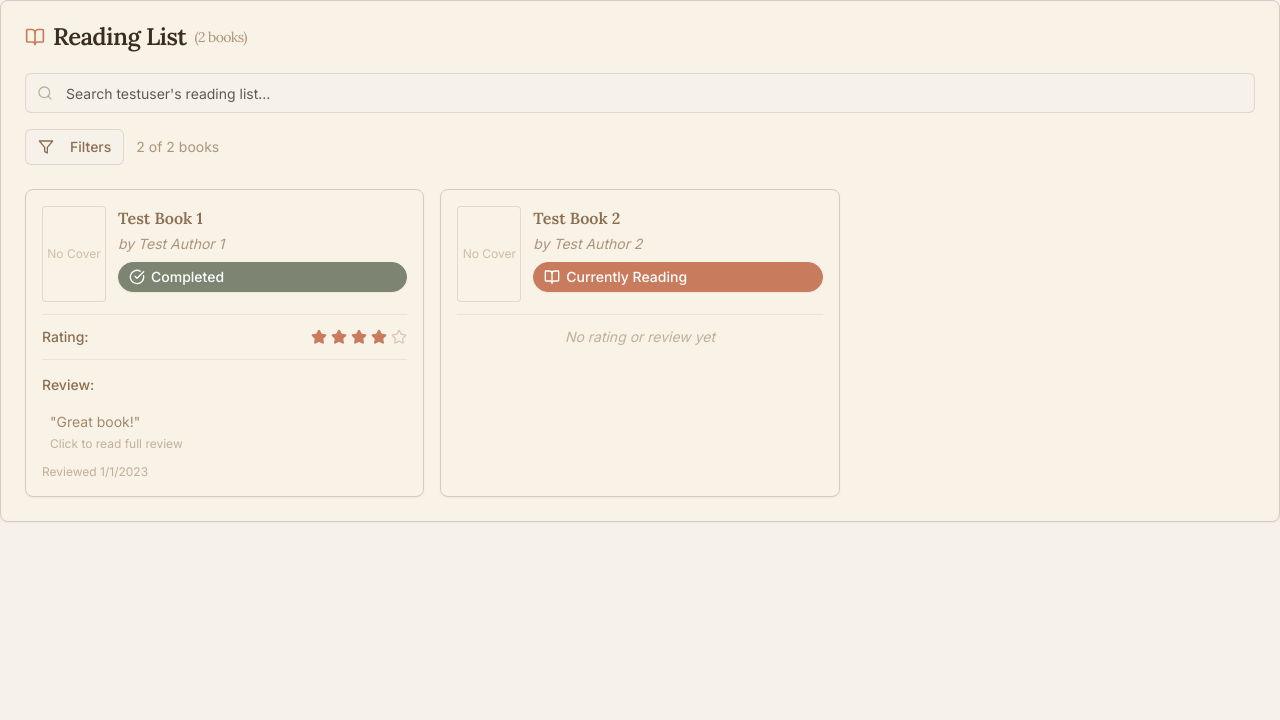
it: ProfileReadingListSection › Search Integration › shows no results message when search has no matches
The image size is (1280, 720).
Check: the text "(2 books)" is shown, box top-left (194, 27), bottom-right (247, 47)
Type "nonexistent book" into the field with placeholder "Search testuser's reading list...".
click(640, 93); type("nonexistent book")  # box top-left (25, 73), bottom-right (1255, 113)
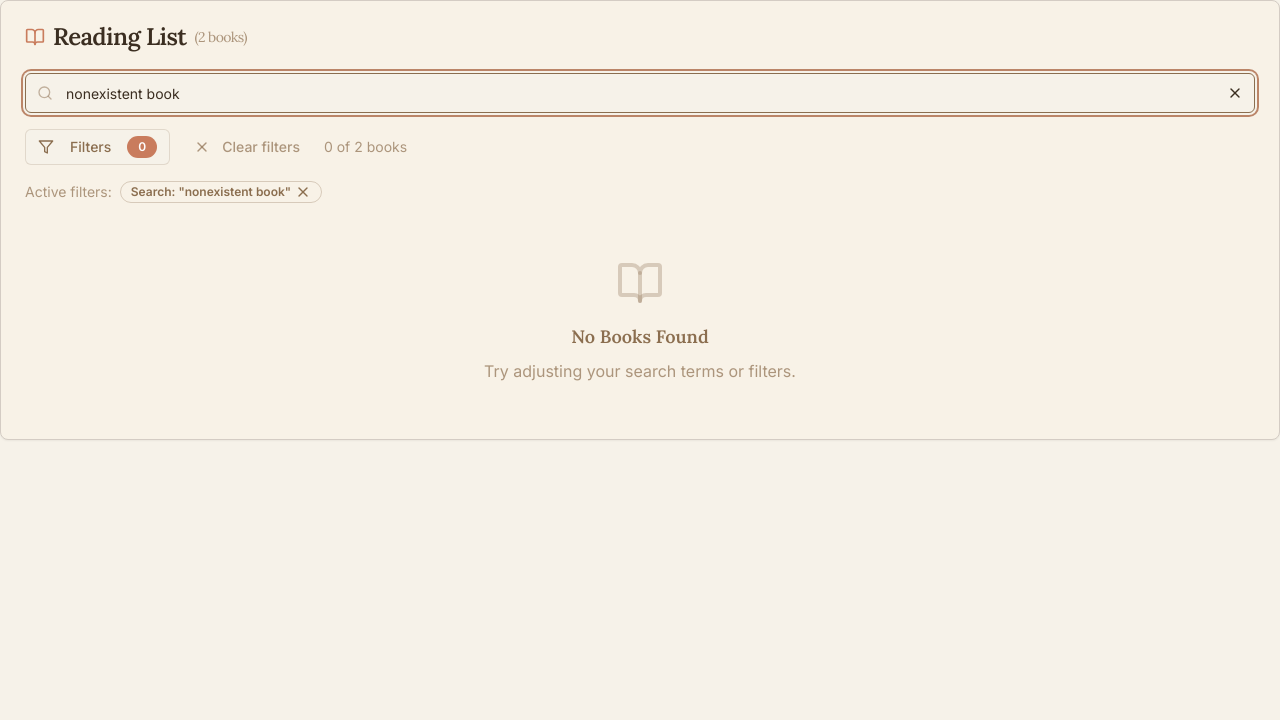
Check: the heading "No Books Found" is shown, box top-left (571, 325), bottom-right (709, 348)
Check: the text "Try adjusting your search terms or filters." is shown, box top-left (484, 361), bottom-right (796, 381)
Check: the text "0 of 2 books" is shown, box top-left (324, 137), bottom-right (407, 157)
